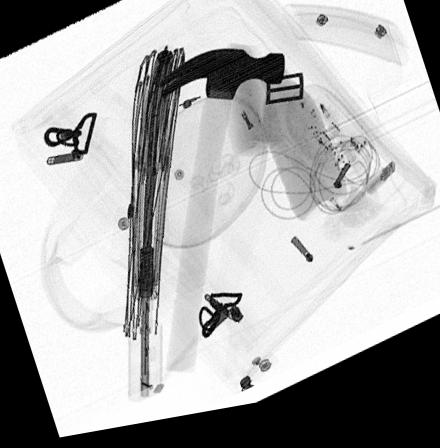Hammer: (157, 54, 284, 381)
